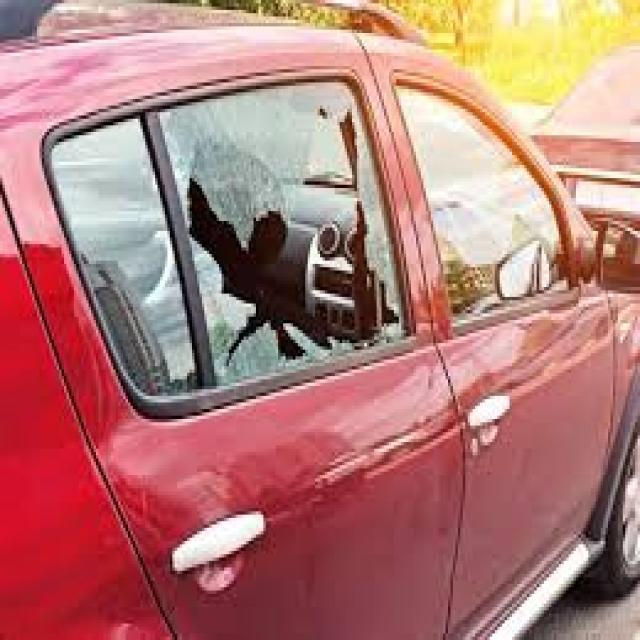damaged-window: (154, 68, 418, 388)
